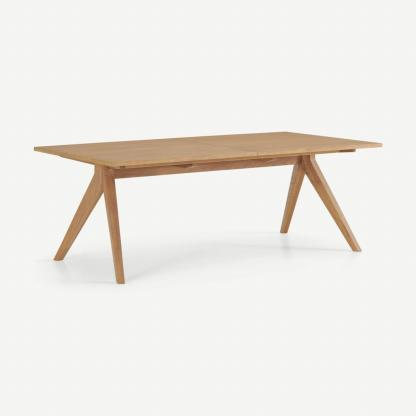Table: (29, 123, 394, 295)
